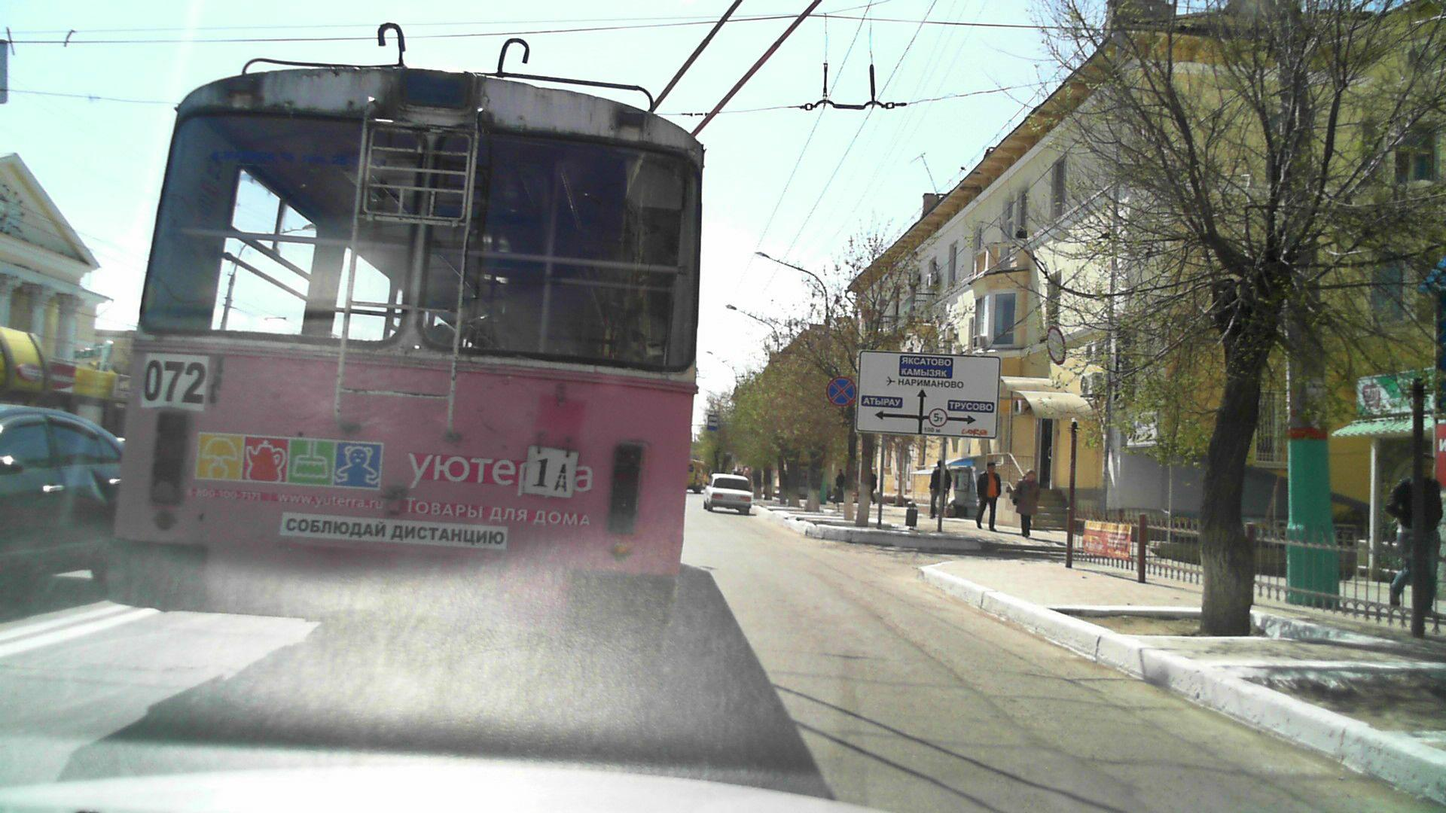obstructed_road_sign: (1046, 325, 1067, 366)
road_sign: (826, 377, 857, 407)
